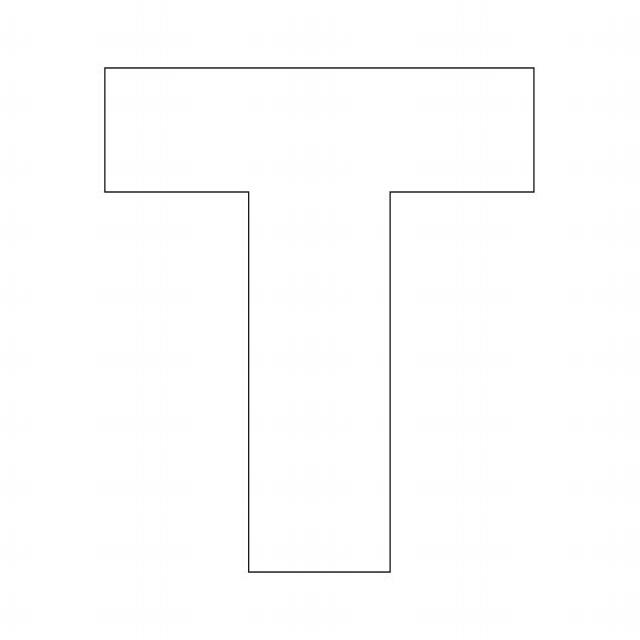T: (82, 37, 564, 591)
